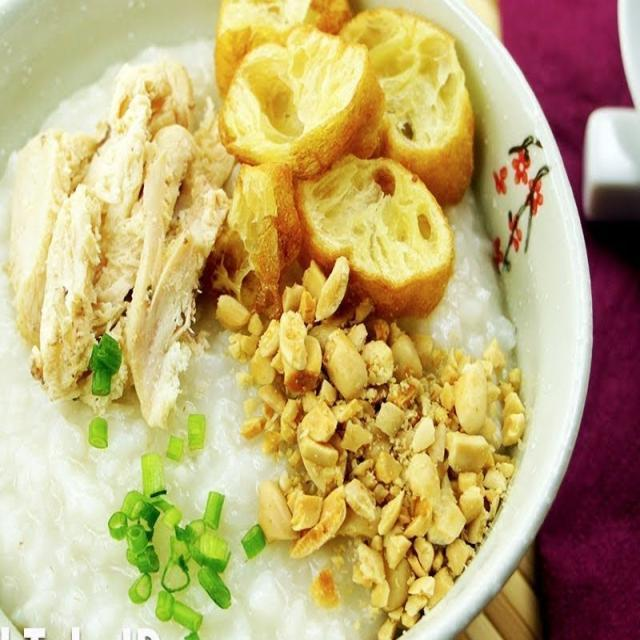bubur ayam: (0, 36, 529, 639)
mangkuk: (3, 1, 594, 640)
